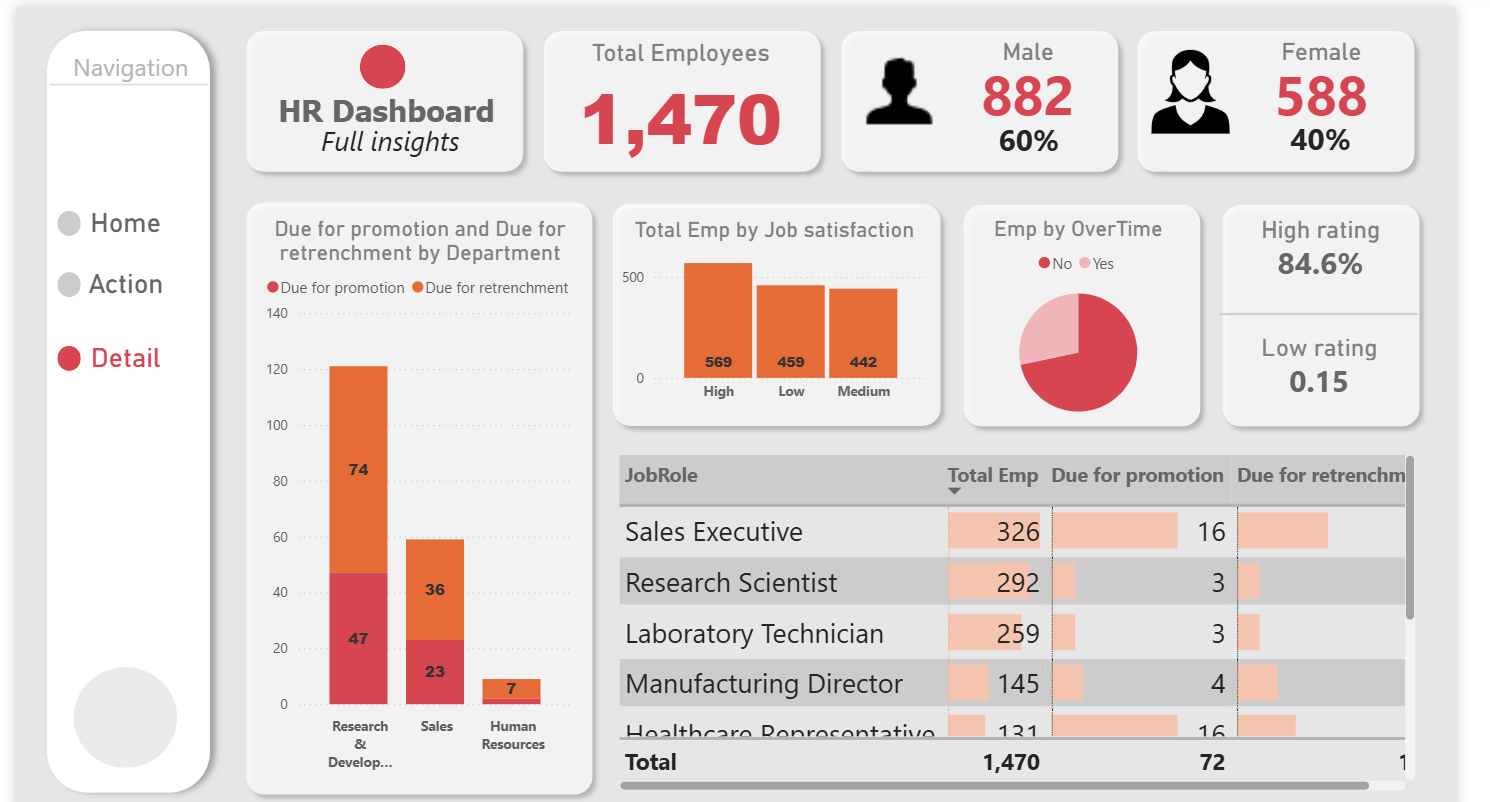

This screenshot's page, from the dashboard's own definition file:
{"tool":"powerbi","page":{"name":"Details","canvas":[1280,720],"ordinal":2},"visuals":[{"type":"shape","box":[16.5,9.6,166.5,699.2],"z":0},{"type":"shape","box":[195.4,12.4,264.3,143.1],"z":1000},{"type":"shape","box":[459.7,12.4,264.3,143.1],"z":2000},{"type":"shape","box":[724,12.4,264.3,143.1],"z":3000},{"type":"shape","box":[988.2,12.4,264.3,143.1],"z":4000},{"type":"shape","box":[195.2,164.4,325.9,544.6],"z":5000},{"type":"shape","box":[521.1,165.9,309.7,215.8],"z":6000},{"type":"shape","box":[833.6,166.7,228.3,215],"z":7000},{"type":"shape","box":[1063.1,166.7,193.3,215],"z":8000},{"type":"textbox","box":[209.7,71.2,238.7,51.4],"z":9000},{"type":"textbox","box":[36.9,33,130.5,51.4],"z":10000},{"type":"textbox","box":[209.7,97.6,251.9,55.4],"z":11000},{"type":"shape","box":[305.9,33,40.9,39.6],"z":12000},{"type":"card","title":"Total Employees","fields":{"Values":["All Measures.Total Emp"]},"box":[468,27.5,246.4,112.9],"z":13000},{"type":"card","title":"Male","fields":{"Values":["All Measures.Male"]},"box":[814.8,26.2,170.7,75.7],"z":14000},{"type":"card","fields":{"Values":["All Measures.Male %"]},"box":[834.1,90.8,132.1,55.1],"z":15000},{"type":"card","title":"Female","fields":{"Values":["All Measures.Female"]},"box":[1068.7,26.2,183.1,75.7],"z":16000},{"type":"card","fields":{"Values":["All Measures.Female %"]},"box":[1083.9,90.8,152.8,53.7],"z":17000},{"type":"image","box":[736.3,26.2,95,90.8],"z":18000},{"type":"image","box":[1004.7,33,79.8,84],"z":19000},{"type":"columnChart","fields":{"Category":["HR Analytics Data.Department"],"Y":["All Measures.Due for promotion","All Measures.Due for retirment"]},"box":[216.3,185.9,284.8,501.1],"z":20000},{"type":"tableEx","fields":{"Values":["HR Analytics Data.JobRole","All Measures.Total Emp","All Measures.Due for promotion","All Measures.Due for retirment"]},"box":[529.5,393.8,718.8,308.1],"z":21000},{"type":"columnChart","fields":{"Category":["HR Analytics Data.Job satisfaction"],"Y":["All Measures.Total Emp"]},"box":[532.8,186.4,281.8,173.2],"z":22000},{"type":"pieChart","title":"Emp by OverTime","fields":{"Category":["HR Analytics Data.OverTime"],"Y":["All Measures.Total Emp"]},"box":[820.3,186,248.9,192.1],"z":23000},{"type":"card","title":"High rating","fields":{"Values":["All Measures.% High emp rating"]},"box":[1066.7,186,186,61.6],"z":24000},{"type":"card","title":"Low rating","fields":{"Values":["All Measures.% Low emp rating"]},"box":[1065.5,289.9,186,61.6],"z":25000},{"type":"shape","box":[1070.1,265.7,176.1,14.7],"z":26000},{"type":"shape","box":[36.9,300.7,21.1,22.4],"z":27000},{"type":"actionButton","title":"Detail","box":[27.7,298,139.8,39.6],"z":28000},{"type":"shape","box":[36.9,236,21.1,22.4],"z":29000},{"type":"actionButton","title":"Action","box":[27.7,232.1,139.8,58],"z":30000},{"type":"shape","box":[36.9,180.7,21.1,22.4],"z":31000},{"type":"actionButton","title":"Home","box":[27.7,178,139.8,54.1],"z":32000},{"type":"shape","box":[51.4,586.8,92.3,89.7],"z":33000},{"type":"shape","box":[30.2,61.6,140.1,15.7],"z":34000}]}

Visuals, with their boxes on the page's 1280x720 design canvas (x1, y1, x2, y2). These are canvas units, not pixel positions in the 1490x802 screenshot, which may show the page scaled, cropped or inside an application window:
shape: BBox(16, 10, 183, 709)
shape: BBox(195, 12, 460, 156)
shape: BBox(460, 12, 724, 156)
shape: BBox(724, 12, 988, 156)
shape: BBox(988, 12, 1252, 156)
shape: BBox(195, 164, 521, 709)
shape: BBox(521, 166, 831, 382)
shape: BBox(834, 167, 1062, 382)
shape: BBox(1063, 167, 1256, 382)
textbox: BBox(210, 71, 448, 123)
textbox: BBox(37, 33, 167, 84)
textbox: BBox(210, 98, 462, 153)
shape: BBox(306, 33, 347, 73)
"Total Employees" card: BBox(468, 28, 714, 140)
"Male" card: BBox(815, 26, 986, 102)
card - All Measures.Male %: BBox(834, 91, 966, 146)
"Female" card: BBox(1069, 26, 1252, 102)
card - All Measures.Female %: BBox(1084, 91, 1237, 144)
image: BBox(736, 26, 831, 117)
image: BBox(1005, 33, 1084, 117)
columnChart - HR Analytics Data.Department x All Measures.Due for promotion: BBox(216, 186, 501, 687)
tableEx - HR Analytics Data.JobRole x All Measures.Total Emp: BBox(530, 394, 1248, 702)
columnChart - HR Analytics Data.Job satisfaction x All Measures.Total Emp: BBox(533, 186, 815, 360)
"Emp by OverTime" pieChart: BBox(820, 186, 1069, 378)
"High rating" card: BBox(1067, 186, 1253, 248)
"Low rating" card: BBox(1066, 290, 1252, 352)
shape: BBox(1070, 266, 1246, 280)
shape: BBox(37, 301, 58, 323)
"Detail" actionButton: BBox(28, 298, 168, 338)
shape: BBox(37, 236, 58, 258)
"Action" actionButton: BBox(28, 232, 168, 290)
shape: BBox(37, 181, 58, 203)
"Home" actionButton: BBox(28, 178, 168, 232)
shape: BBox(51, 587, 144, 676)
shape: BBox(30, 62, 170, 77)
